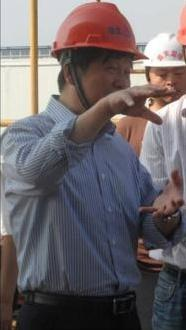hard-hat: (50, 1, 149, 61)
